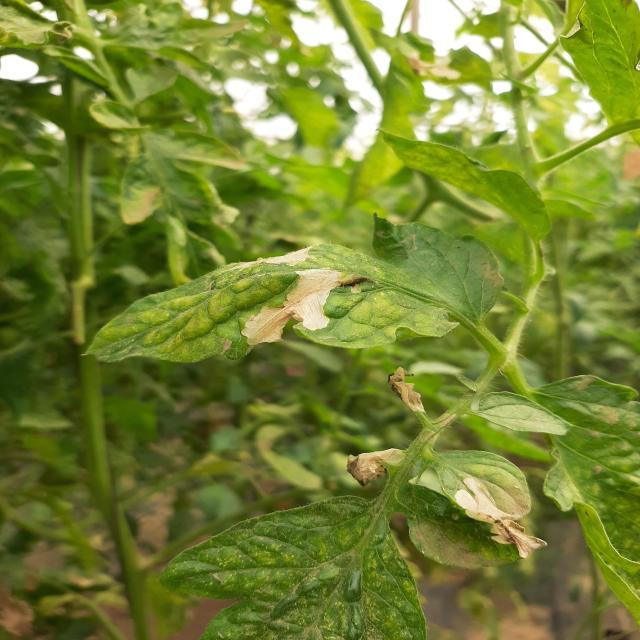Tuta absoluta: (237, 251, 359, 374), (448, 474, 529, 552), (234, 246, 314, 276), (513, 533, 540, 558)
